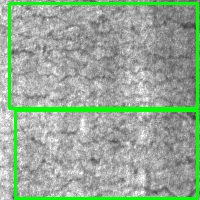crazing: (10, 3, 197, 108), (15, 110, 197, 198)
